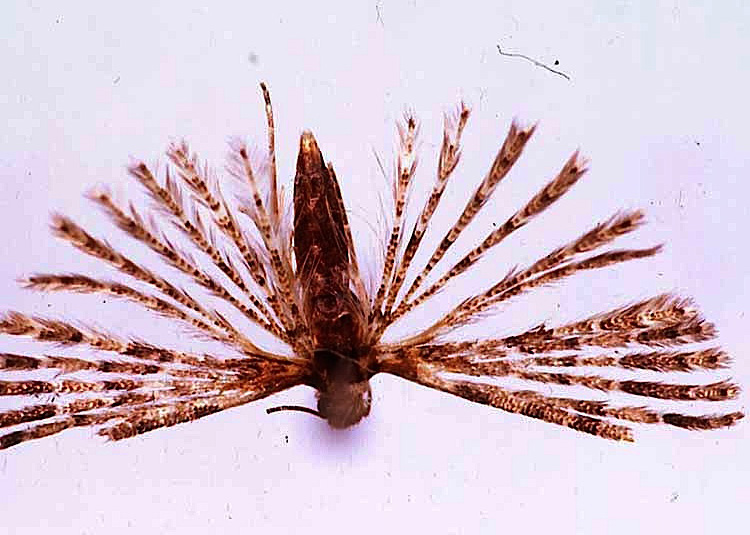Alucitidae: (3, 73, 748, 472)
moth: (5, 75, 750, 474)
